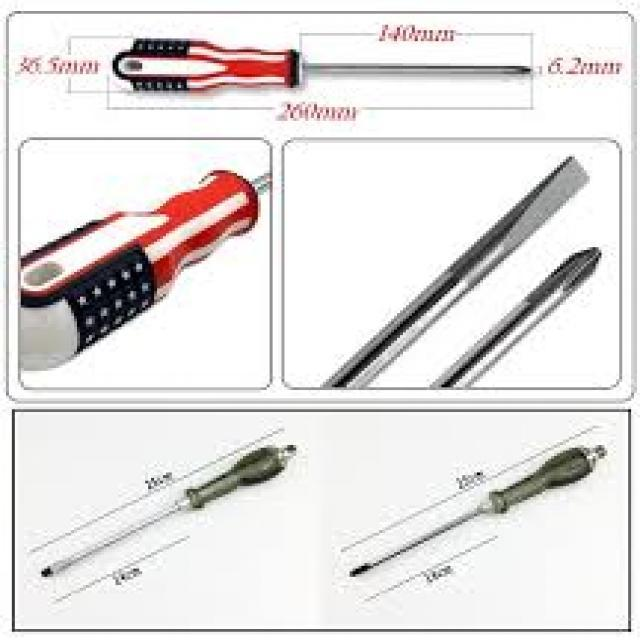screwdriver: (40, 436, 301, 586), (339, 440, 612, 580), (108, 32, 535, 104)
